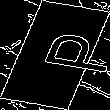P_W: (9, 30, 101, 80)
